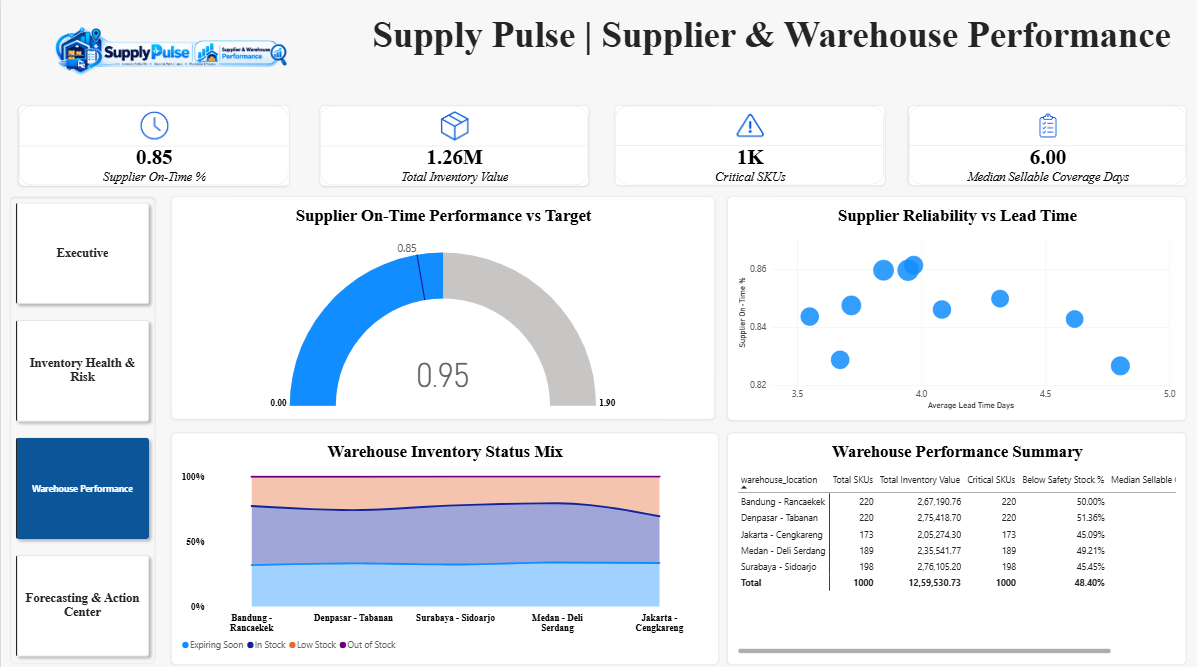

Layout of this report page (visuals, bound fields, positions):
{"tool":"powerbi","page":{"name":"Warehouse Performance","canvas":[1920,1080],"ordinal":2},"visuals":[{"type":"cardVisual","fields":{"Data":["Fact_Inventory.Supplier On-Time %"]},"box":[27.7,169.2,433.8,129.2],"z":0},{"type":"cardVisual","fields":{"Data":["Fact_Inventory.Total Inventory Value"]},"box":[510.8,169.2,430.8,129.2],"z":1000},{"type":"cardVisual","fields":{"Data":["Fact_Inventory.Critical SKUs"]},"box":[982.6,170.1,432.5,128.5],"z":2000},{"type":"cardVisual","fields":{"Data":["Fact_Inventory.Median Sellable Coverage Days"]},"box":[1451.3,170.1,445.2,128.5],"z":3000},{"type":"image","box":[14,24,516,126],"z":4000},{"type":"textbox","box":[570,24,1326,126],"z":5000},{"type":"gauge","title":"Supplier On-Time Performance vs Target","fields":{"Y":["Fact_Inventory.Supplier On-Time Target"],"TargetValue":["Fact_Inventory.Supplier On-Time %"]},"box":[271.4,316.7,870.4,356.5],"z":6000},{"type":"hundredPercentStackedAreaChart","title":"Warehouse Inventory Status Mix","fields":{"Category":["Dim_Warehouse.warehouse_location"],"Series":["Dim_Product.inventory_status"],"Y":["Fact_Inventory.Total SKUs"]},"box":[271.4,693.1,875.9,371],"z":7000},{"type":"scatterChart","title":"Supplier Reliability vs Lead Time","fields":{"X":["Fact_Inventory.Average Lead Time Days"],"Y":["Fact_Inventory.Supplier On-Time %"],"Size":["Fact_Inventory.Total Inventory Value"],"Category":["Dim_Supplier.supplier_name"]},"box":[1161.8,316.7,734.7,358.3],"z":8000},{"type":"pivotTable","title":"Warehouse Performance Summary","fields":{"Values":["Fact_Inventory.Total SKUs","Fact_Inventory.Total Inventory Value","Fact_Inventory.Critical SKUs","Fact_Inventory.Below Safety Stock %","Fact_Inventory.Median Sellable Coverage Days"],"Rows":["Dim_Warehouse.warehouse_location"]},"box":[1161.8,693.1,734.7,371],"z":9000},{"type":"pageNavigator","box":[14.5,316.7,233.4,747.4],"z":10000}]}

Visuals, with their boxes in screenshot pixels (x1, y1, x2, y2), scaled from the page's 1920x1080 canvas onto the 1197x667 screenshot:
cardVisual - Fact_Inventory.Supplier On-Time %: 17:104:288:184
cardVisual - Fact_Inventory.Total Inventory Value: 318:104:587:184
cardVisual - Fact_Inventory.Critical SKUs: 613:105:882:184
cardVisual - Fact_Inventory.Median Sellable Coverage Days: 905:105:1182:184
image: 9:15:330:93
textbox: 355:15:1182:93
"Supplier On-Time Performance vs Target" gauge: 169:196:712:416
"Warehouse Inventory Status Mix" hundredPercentStackedAreaChart: 169:428:715:657
"Supplier Reliability vs Lead Time" scatterChart: 724:196:1182:417
"Warehouse Performance Summary" pivotTable: 724:428:1182:657
pageNavigator: 9:196:155:657
